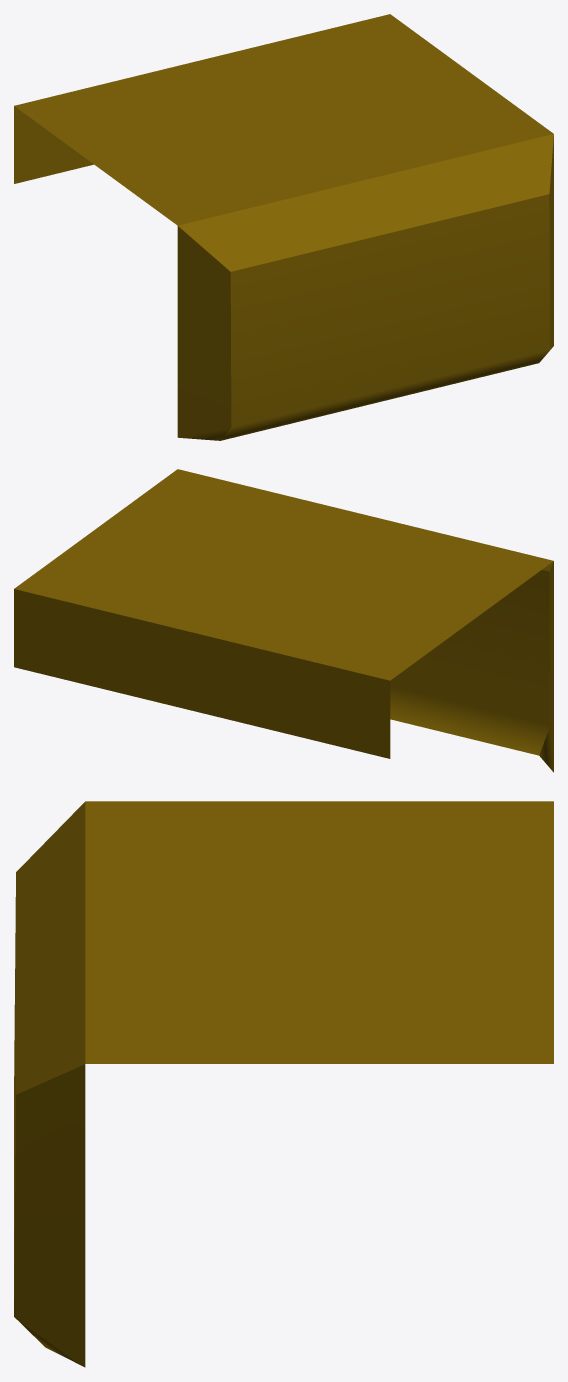
The model's file is mesh_BuildingA_TrimStraightCapRoof_v2.fbx.
3 renders of one model, top to bottom at view 1: azimuth 30°, elevation 25°; view 2: azimuth 150°, elevation 25°; view 3: azimuth 270°, elevation 25°, orthographic. The views are drawn at different scales.
Parts seen in each view (by area): view 1: mesh_BuildingA_TrimStraightCapRoof; view 2: mesh_BuildingA_TrimStraightCapRoof; view 3: mesh_BuildingA_TrimStraightCapRoof.
Boxes of the visible parts, box(x1,y1,x2,y2) form: mesh_BuildingA_TrimStraightCapRoof: box(14, 14, 553, 440); mesh_BuildingA_TrimStraightCapRoof: box(14, 469, 553, 772); mesh_BuildingA_TrimStraightCapRoof: box(14, 801, 553, 1367).
Bounding box in the file's own units: 36.65 × 19.73 × 31.83.
